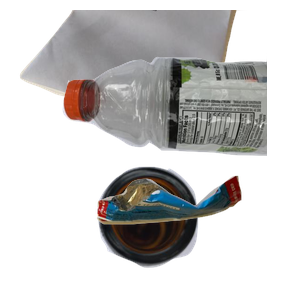glass: (95, 164, 286, 300)
paper: (17, 10, 254, 141)
plastic: (60, 53, 300, 201)
trash: (94, 173, 300, 300)
